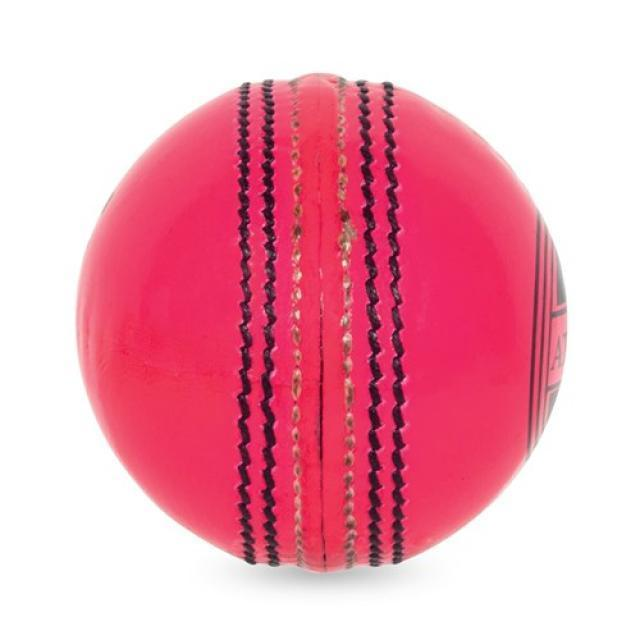cricket ball: (74, 71, 569, 574)
